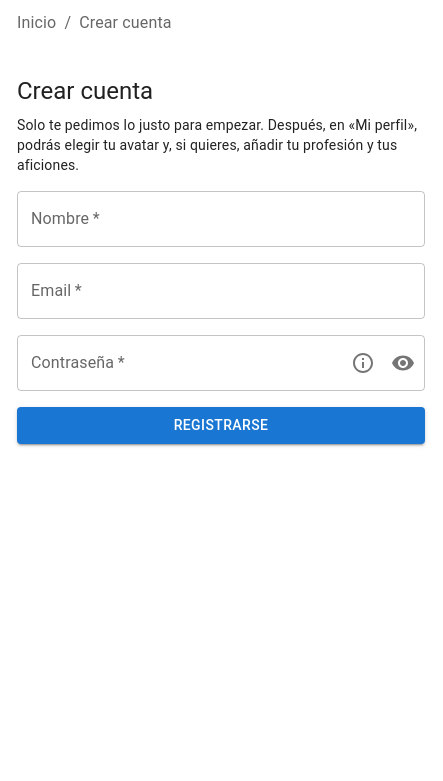
Scenario: RegisterForm (RF-01) › contraseña fuerte (SEC-01) › con 'Test1234!' no envía nada, abre los requisitos y dice qué falla, también lo previsible
Type "Ana" into the field labelled "Nombre *". click: (221, 220)
box: top-left (17, 192), bottom-right (425, 248)
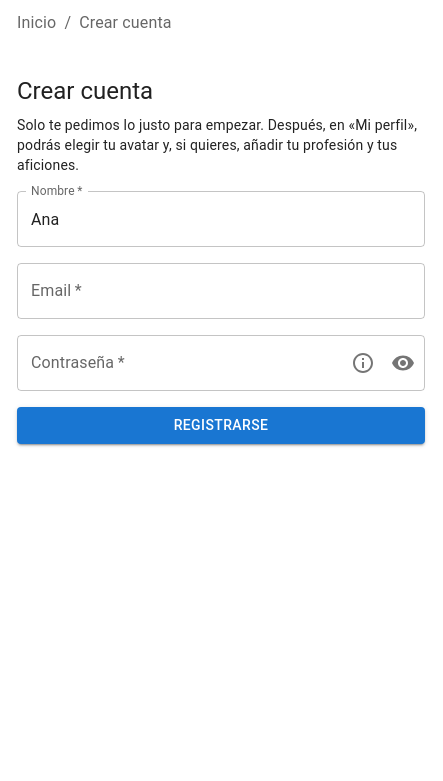
Type "ana@ejemplo.com" into the field labelled "Email *". click: (221, 292)
box: top-left (17, 264), bottom-right (425, 320)
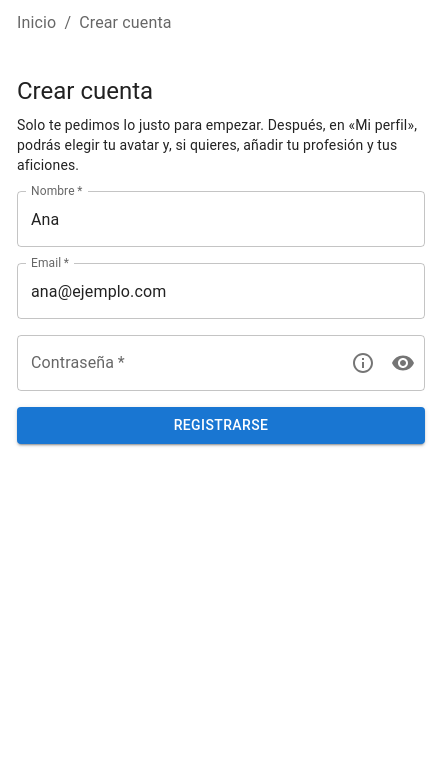
Type "Test1234!" into the password field labelled "Contraseña *". click: (176, 364)
box: top-left (17, 336), bottom-right (335, 392)
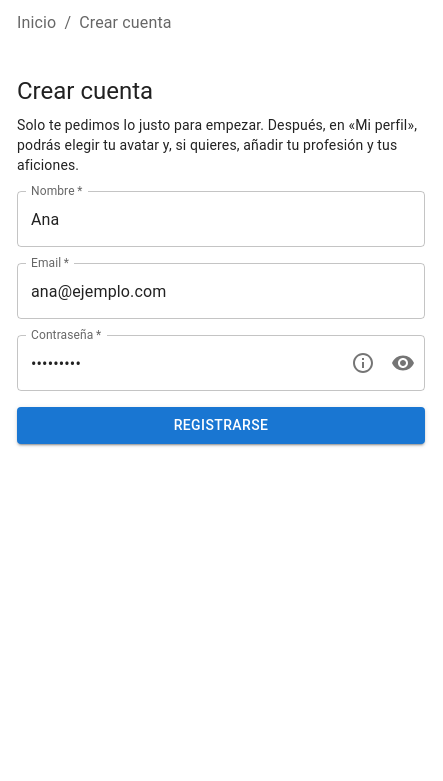
Click the button "Registrarse". click: (221, 426)
box: top-left (17, 408), bottom-right (425, 444)
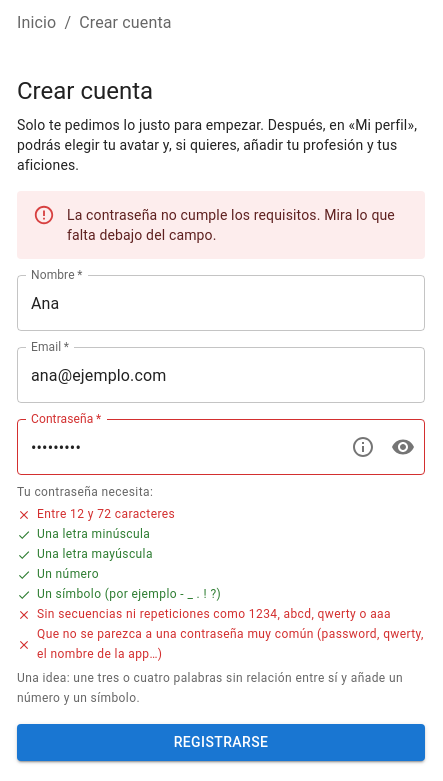
Now the text "no cumple los requisitos" is shown, box top-left (67, 208), bottom-right (395, 244)
Now the text "Sin secuencias ni repeticiones como 1234, abcd, qwerty o aaa" is shown, box top-left (37, 605), bottom-right (391, 625)
Now the text "contraseña muy común" is shown, box top-left (37, 627), bottom-right (424, 661)
